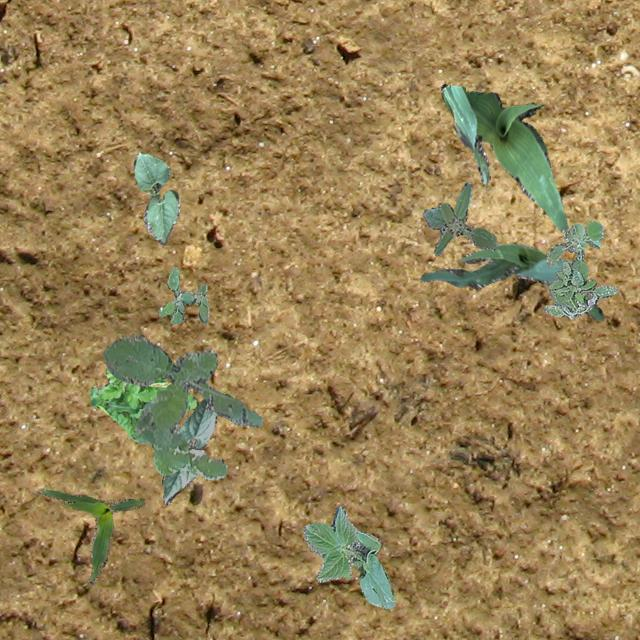crop: (439, 82, 566, 232), (418, 242, 602, 320), (38, 488, 144, 584), (302, 506, 394, 608), (160, 398, 216, 504), (134, 150, 178, 244)
weed: (101, 334, 262, 479), (89, 368, 198, 442), (422, 182, 496, 254), (542, 260, 616, 318), (546, 220, 602, 280), (156, 267, 208, 323)
